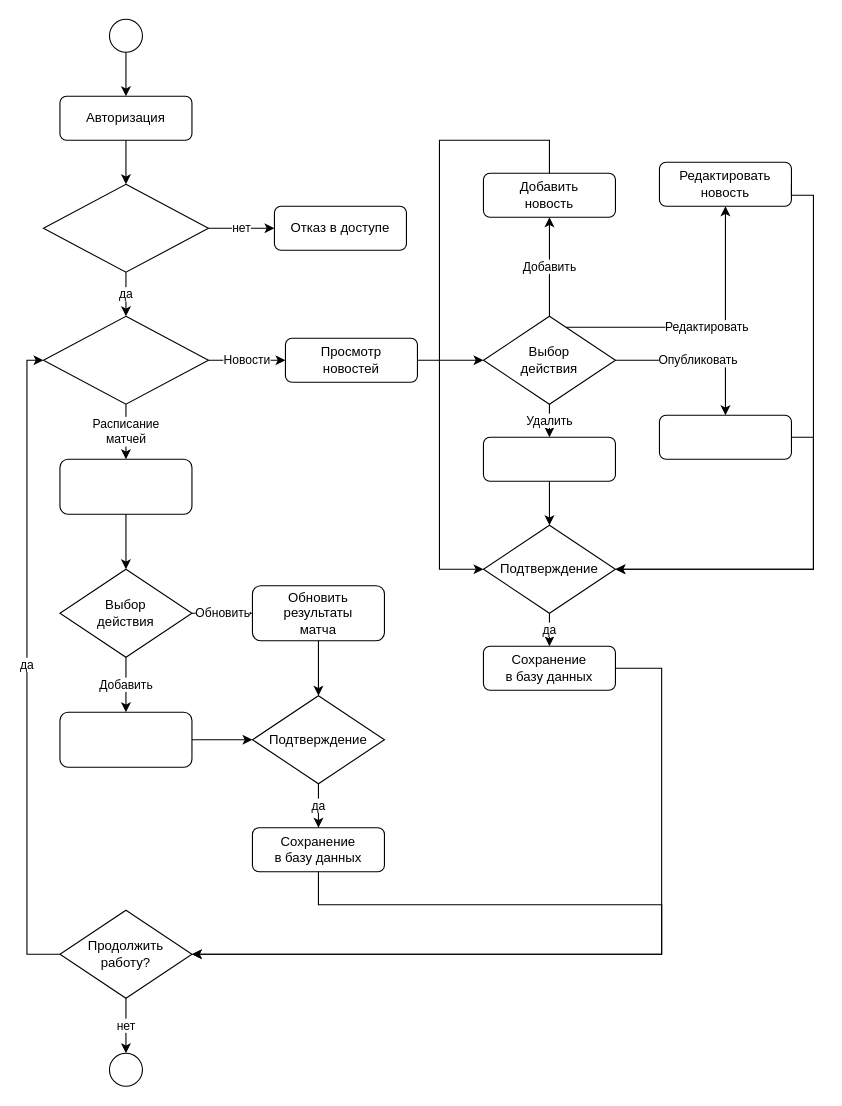
This 842x1106 diagram has some shape labels left out. The shapes that lost their labels are listed below. From the top down, each one's centre as x and y in pixels, then its label:
the point at 125,227: Права контент-менеджера?
the point at 125,359: Выбор типа контента
the point at 724,436: Опубликовать новость
the point at 548,458: Удалить новость
the point at 125,486: Просмотр расписания матчей
the point at 125,739: Добавить дату и время матча
